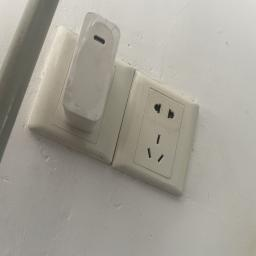outlet: (24, 15, 136, 173), (125, 63, 196, 200)
